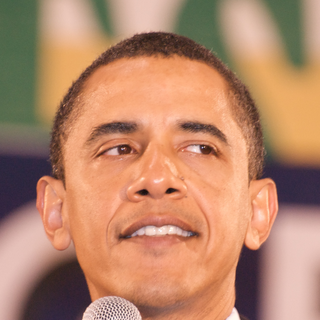eye: (179, 138, 227, 162), (95, 138, 142, 162)
